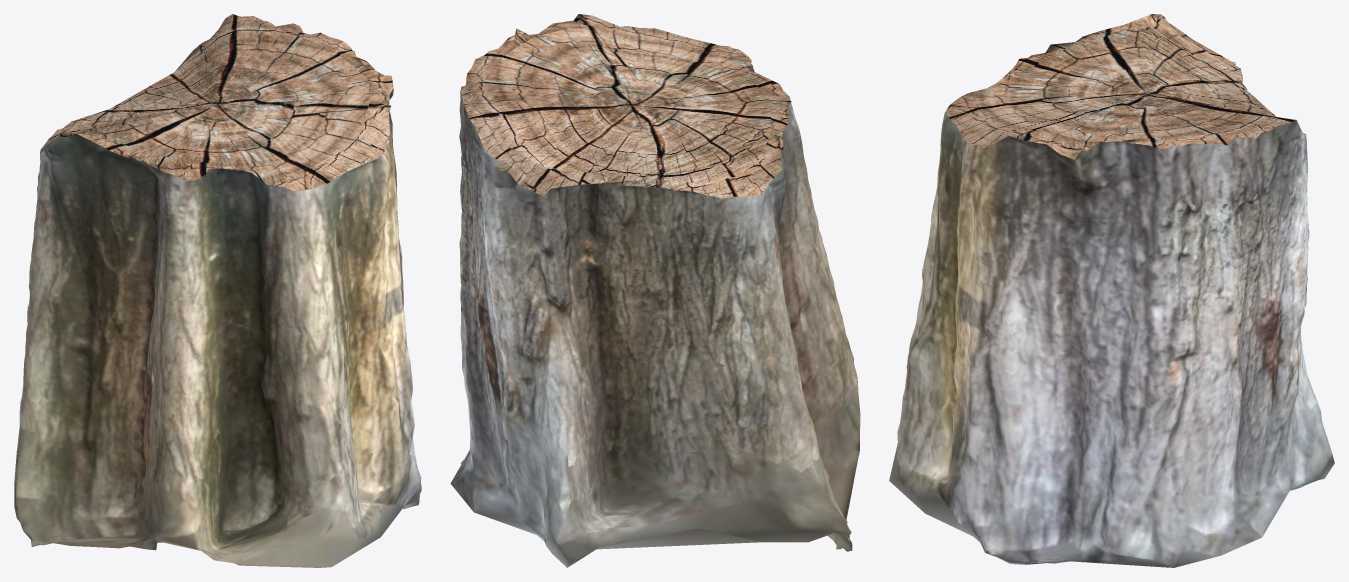
The model's file is project1.gltf.
The picture shows the model from 3 angles, left to right: view 1: azimuth 30°, elevation 25°; view 2: azimuth 150°, elevation 25°; view 3: azimuth 270°, elevation 25°; orthographic projection. The views are drawn at different scales.
Parts seen in each view (by area): view 1: Mesh_0, Mesh_0.003; view 2: Mesh_0, Mesh_0.003, Mesh_0.002; view 3: Mesh_0, Mesh_0.003.
Boxes of the visible parts, x1,y1,x2,y2 form: Mesh_0: (14, 88, 421, 567); Mesh_0.003: (41, 14, 393, 191); Mesh_0: (450, 29, 860, 567); Mesh_0.003: (460, 14, 791, 198); Mesh_0.002: (597, 528, 760, 549); Mesh_0: (889, 109, 1334, 567); Mesh_0.003: (945, 14, 1305, 159).
Size of the model in its own units: 2.22 by 2.45 by 2.29.
2 materials, 2 textured.
